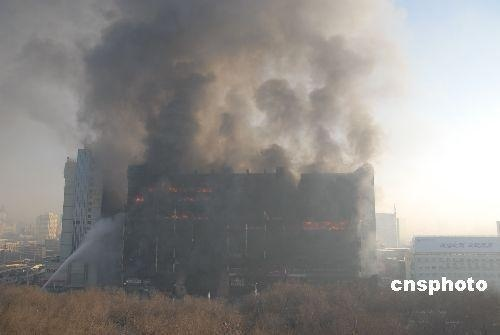fire: (303, 216, 347, 229)
